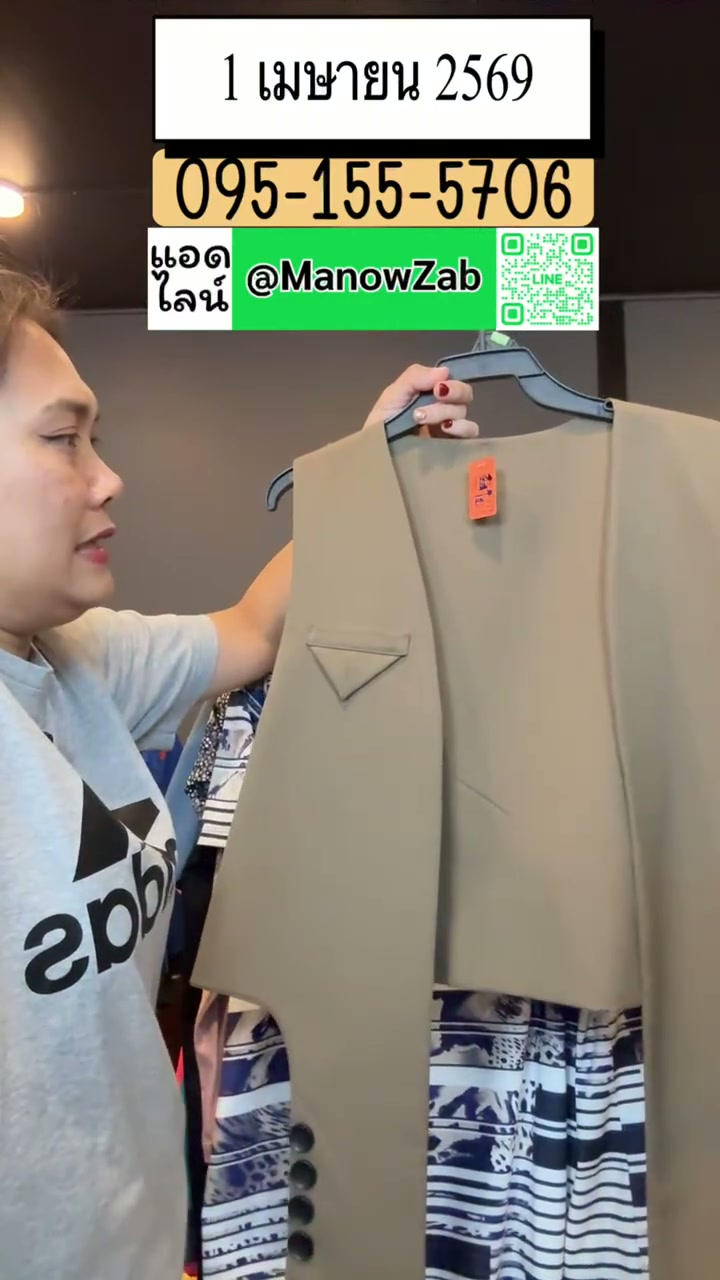display_shirt: (198, 403, 719, 1279)
